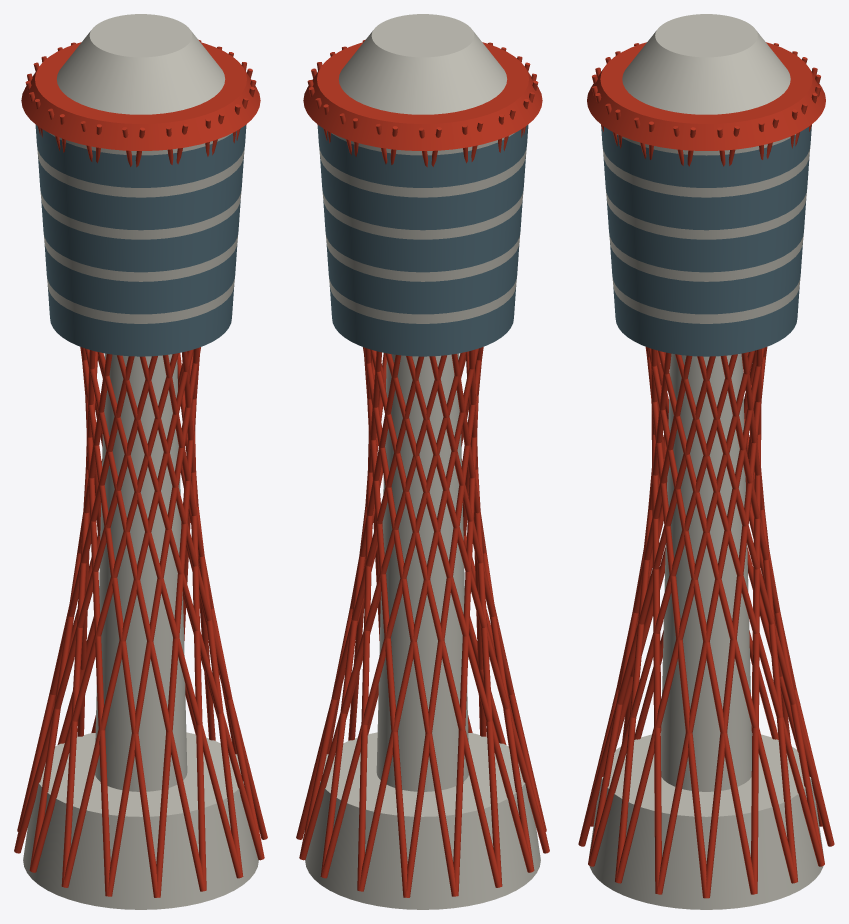
The model's file is kobe-port-tower.glb.
3 views of the same model, side by side, from view 1: azimuth 30°, elevation 25°; view 2: azimuth 150°, elevation 25°; view 3: azimuth 270°, elevation 25° (orthographic).
Bounding box in the file's own units: 30.42 × 108 × 30.42.
